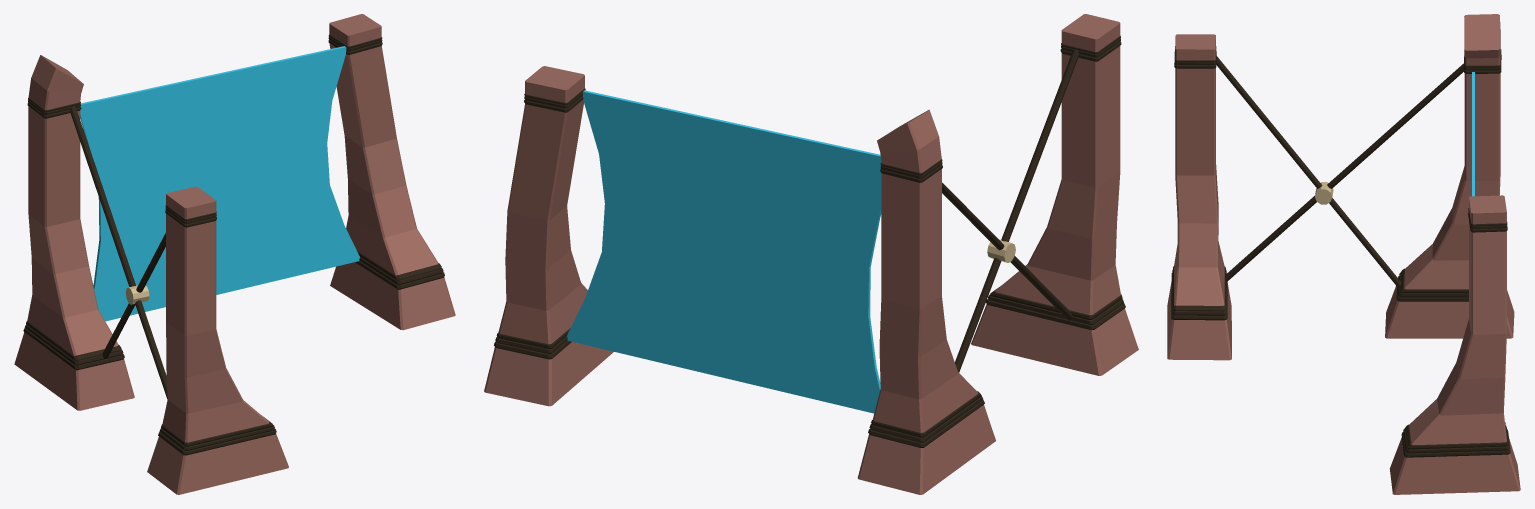
File: SM_colonna_teli_azzurri.fbx
3 renders of one model, left to right at view 1: azimuth 30°, elevation 25°; view 2: azimuth 150°, elevation 25°; view 3: azimuth 270°, elevation 25°, orthographic. The views are drawn at different scales.
Parts seen in each view (by area): view 1: pPlane10; view 2: pPlane10; view 3: pPlane10.
Boxes of the visible parts, x1=… form: pPlane10: x1=14, y1=14, x2=455, y2=494; pPlane10: x1=484, y1=14, x2=1138, y2=494; pPlane10: x1=1167, y1=14, x2=1520, y2=494.
Bounding box in the file's own units: 855 × 645 × 674.
